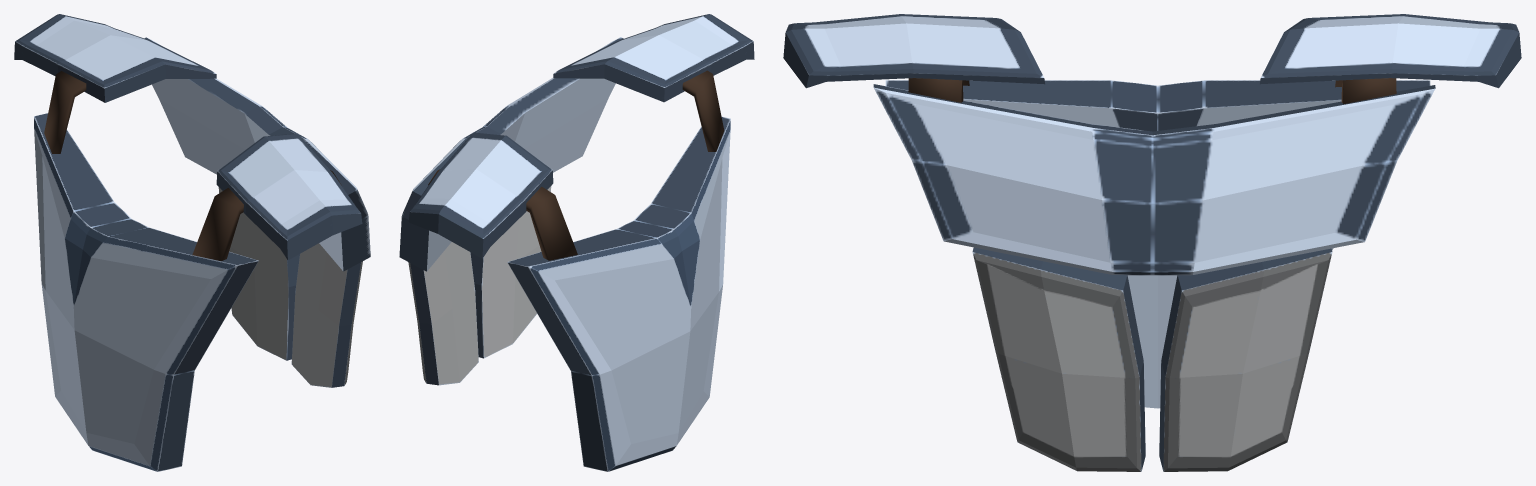
The model's file is ReactiveArmour.fbx.
3 views of the same model, side by side, from view 1: azimuth 30°, elevation 25°; view 2: azimuth 150°, elevation 25°; view 3: azimuth 270°, elevation 25° (orthographic). The views are drawn at different scales.
Visible parts, largest first — view 1: arrow, Trap, Trap.001, Throat, Cube; view 2: arrow, Trap, Trap.001, Throat, Cube; view 3: Throat, Trap.001, Trap, arrow, Cube.
Boxes of the visible parts, box(x1,y1,x2,y2) form: arrow: box(34, 113, 258, 471); Trap: box(14, 14, 362, 260); Trap.001: box(218, 187, 362, 387); Throat: box(144, 37, 370, 271); Cube: box(44, 71, 341, 261); arrow: box(507, 116, 730, 471); Trap: box(408, 14, 754, 258); Trap.001: box(408, 186, 551, 385); Throat: box(399, 37, 623, 271); Cube: box(428, 70, 724, 260); Throat: box(873, 84, 1435, 275); Trap.001: box(972, 247, 1332, 471); Trap: box(783, 14, 1521, 88); arrow: box(885, 80, 1430, 408); Cube: box(908, 78, 1396, 103).
Size of the model in its own units: 214 by 270 by 416.
